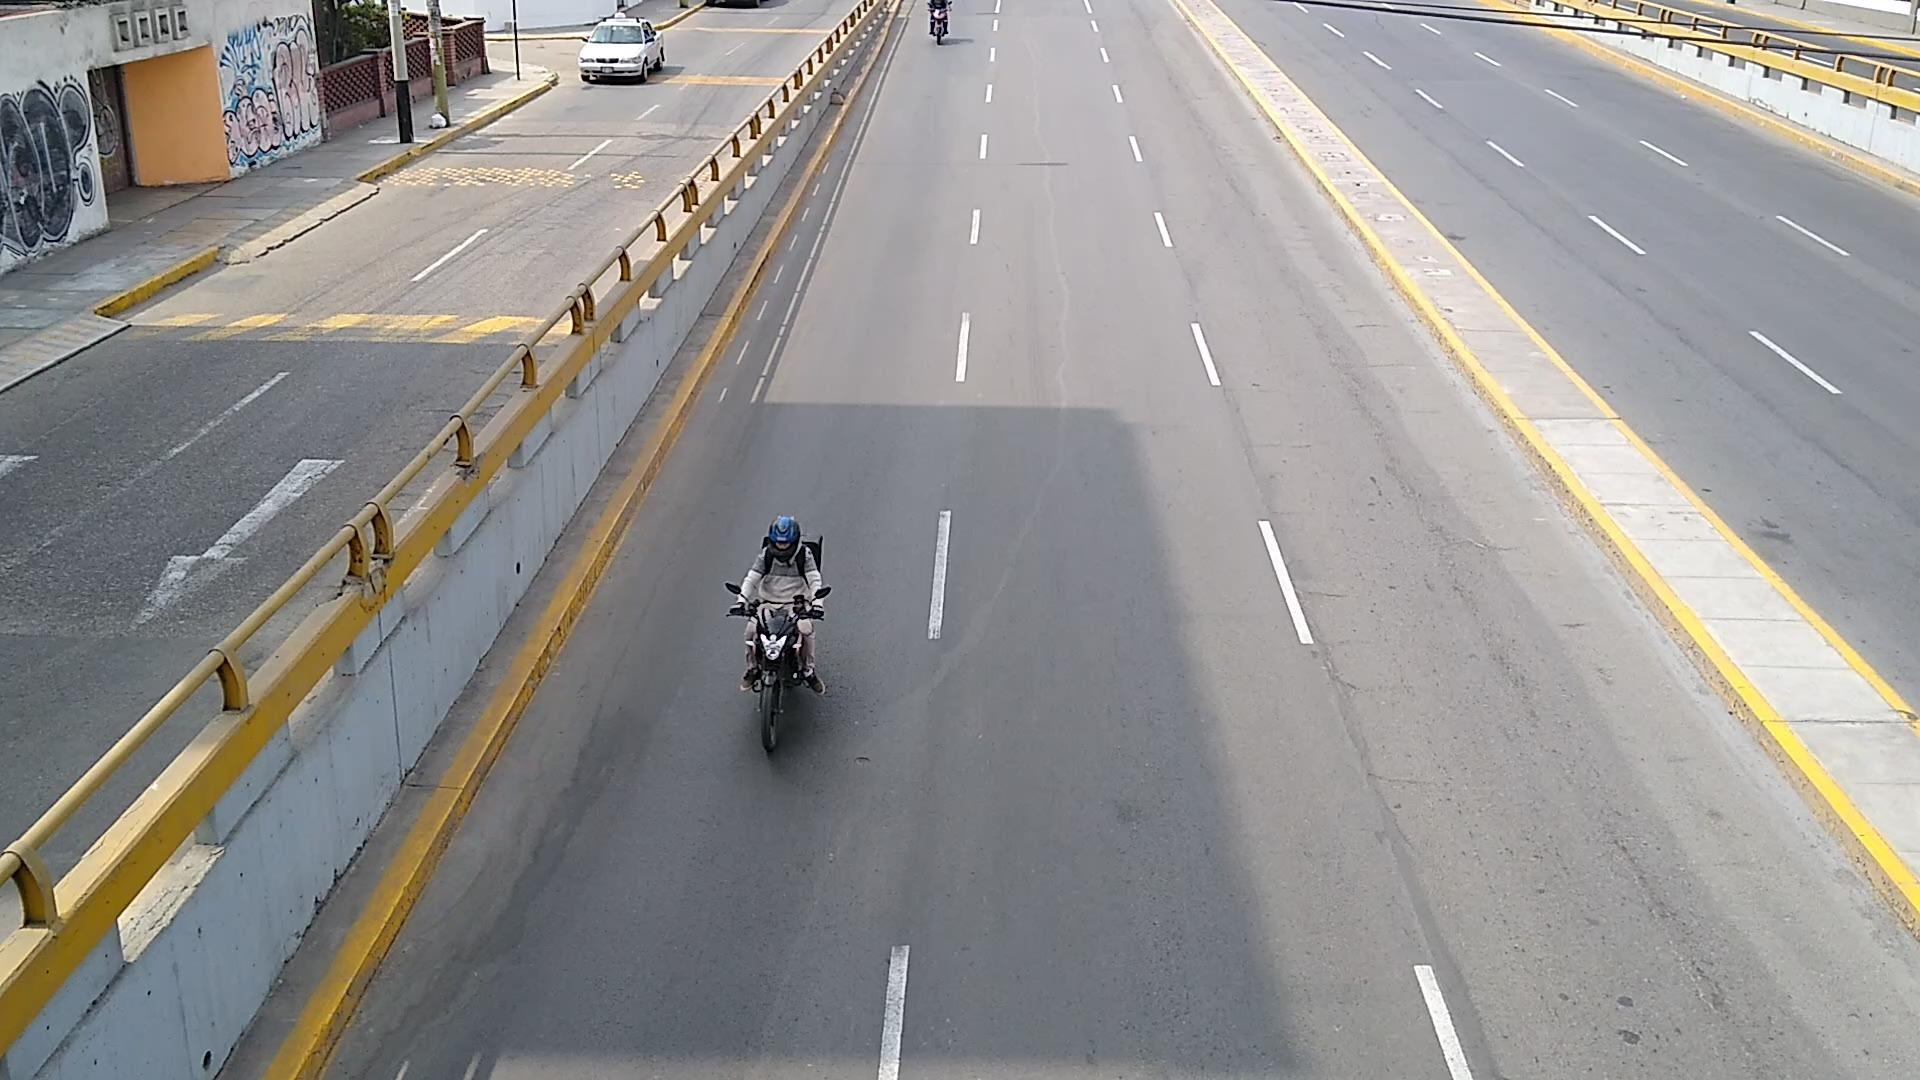car: (581, 15, 664, 82)
motorcyclist: (742, 596, 821, 750), (739, 514, 829, 611), (754, 600, 806, 750), (799, 619, 821, 690), (928, 0, 949, 43), (769, 682, 795, 714), (746, 630, 765, 668)
